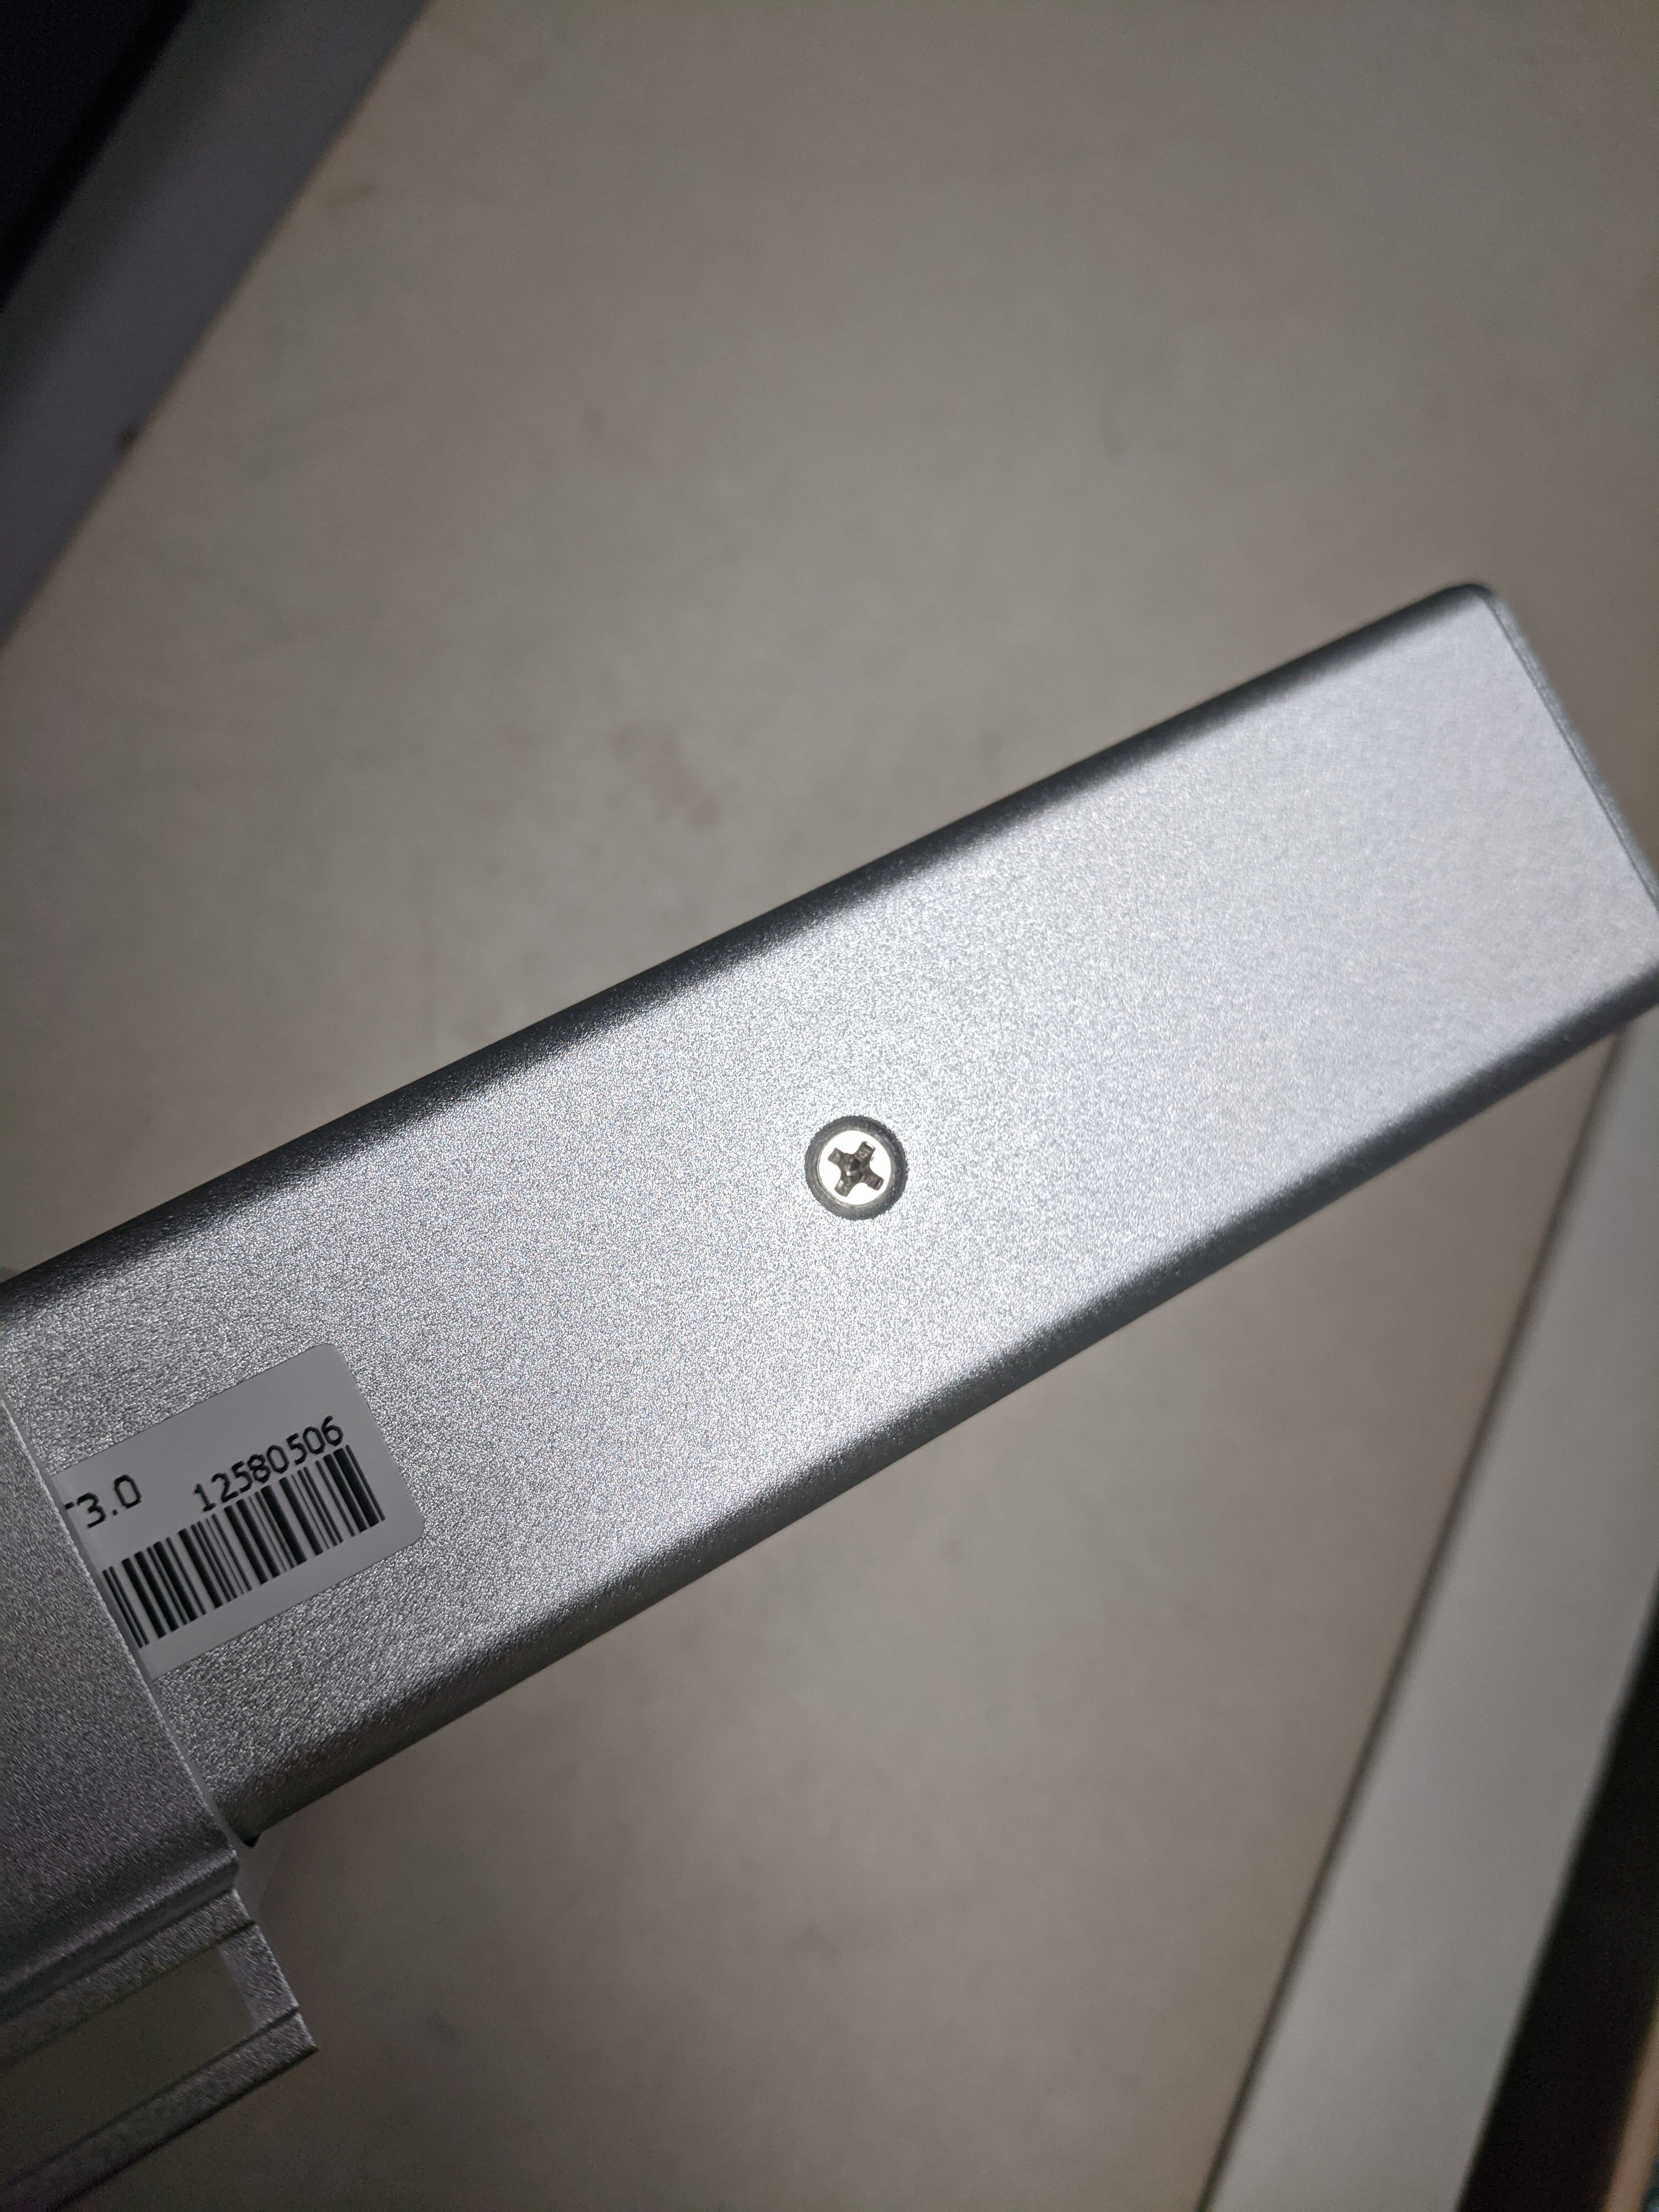cross_recessed_screw: (796, 1111, 913, 1216)
